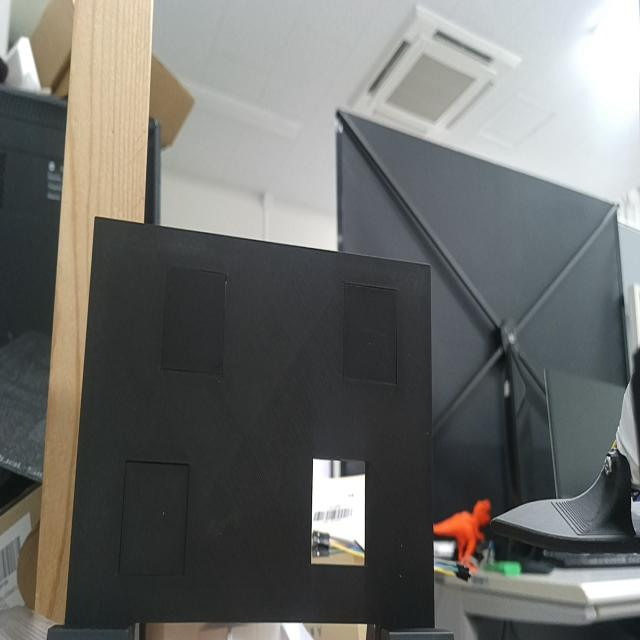Obstacle: (311, 459, 365, 565)
Wall: (64, 218, 434, 624)
